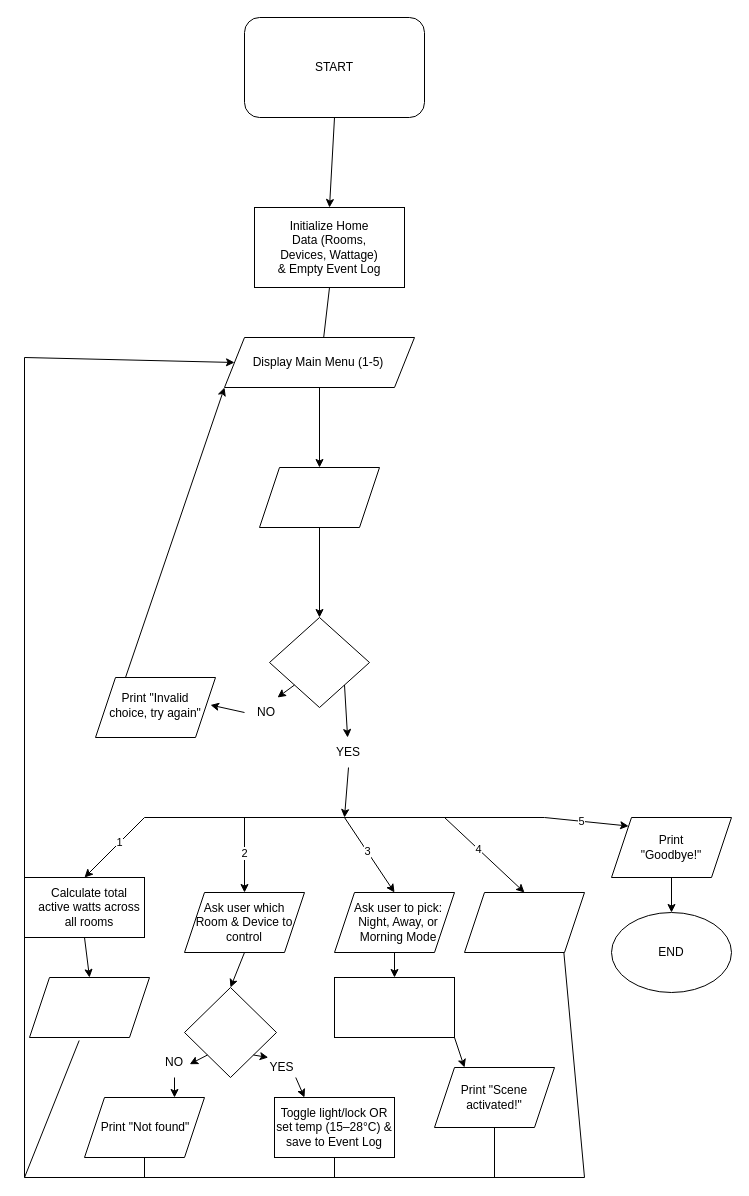
This 749x1196 diagram has some shape labels left out. Each missing label, with the centre of its shape:
"Apply preset states to all rooms & save to Event Log" goes at [394,1007].
"Display room statuses & total wattage" goes at [89,1007].
"Is input valid (1-5)?" goes at [319,662].
"Print list of all recent actions" goes at [524,922].
"Read User Choice" goes at [319,497].
"Valid room & device?" goes at [230,1032].
